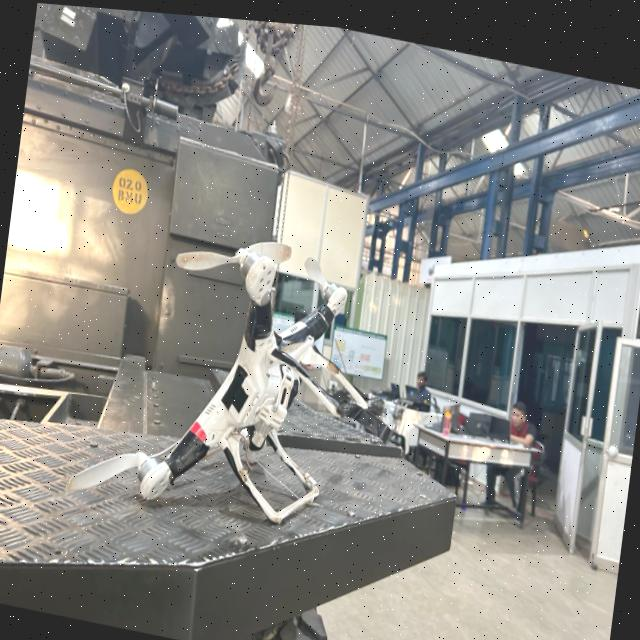drone: (140, 203, 406, 556)
